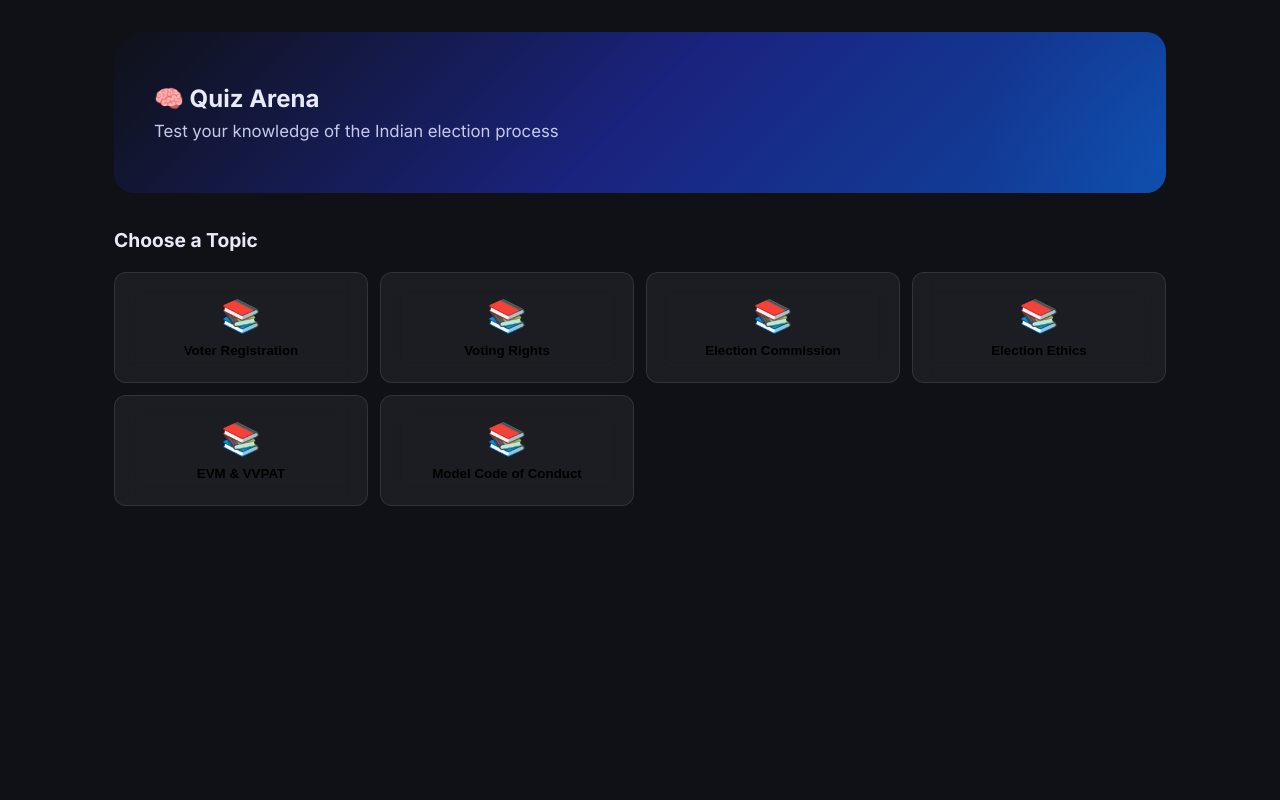
Test: QuizArena › starts quiz on topic click
Click the heading "Voter Registration" at (241, 350), box [184,343,298,358]
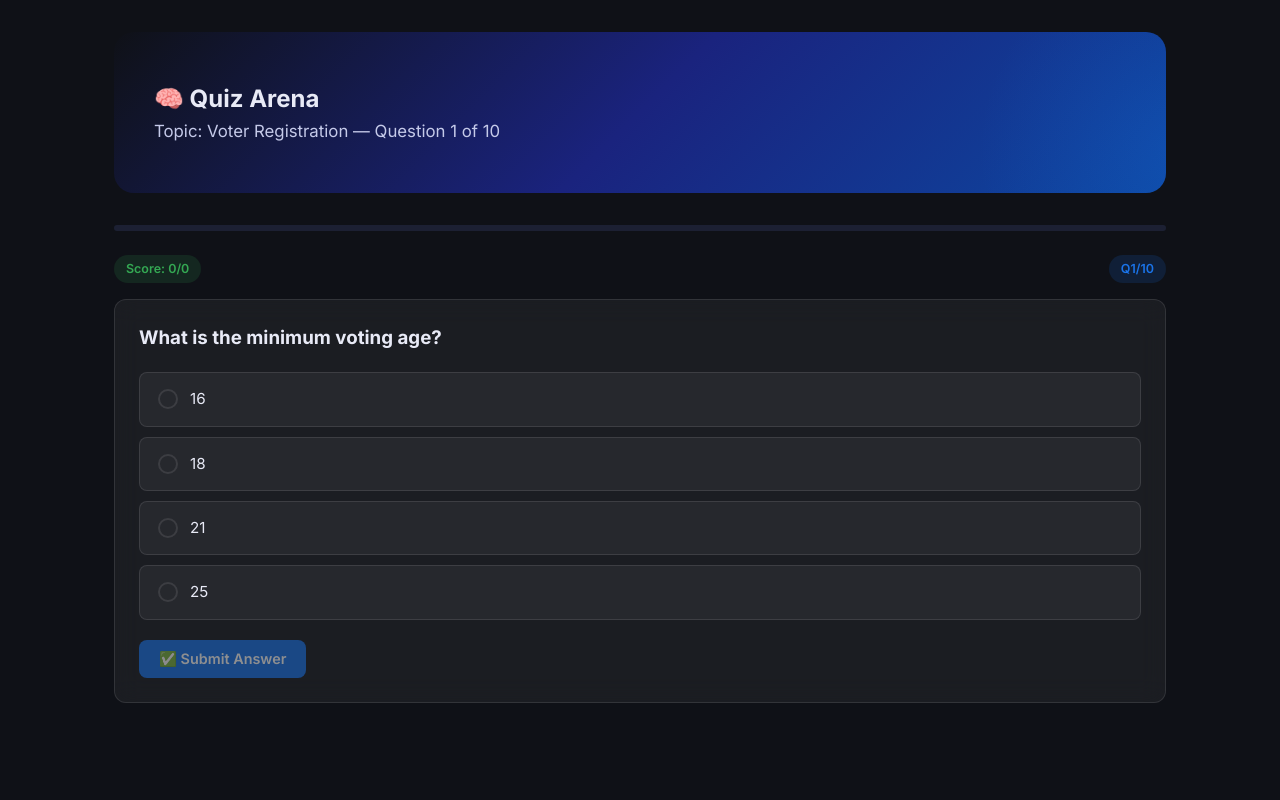
Check: the heading "What is the minimum voting age?" is shown, box [139,326,442,349]
